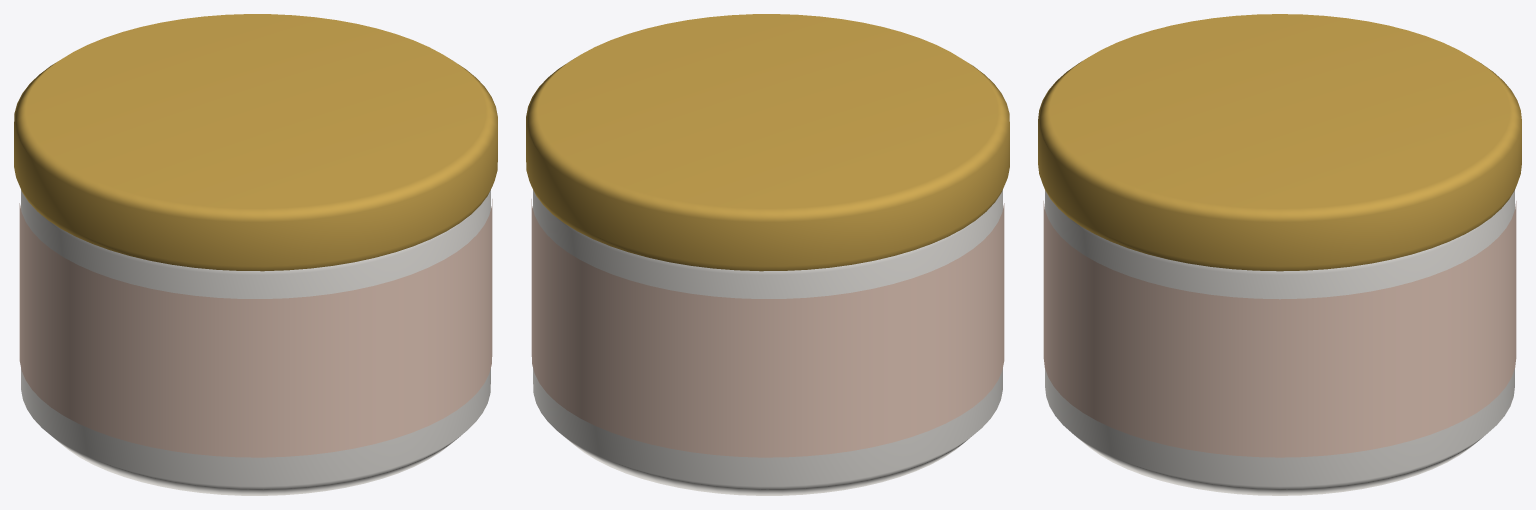
File: cream-jar.glb
3 renders of one model, left to right at view 1: azimuth 30°, elevation 25°; view 2: azimuth 150°, elevation 25°; view 3: azimuth 270°, elevation 25°, orthographic.
Parts seen in each view (by area): view 1: lid, label, body; view 2: lid, label, body; view 3: lid, label, body.
Boxes of the visible parts, left/top/right/bottom form: lid: left=14, top=14, right=497, bottom=271; label: left=19, top=199, right=492, bottom=457; body: left=21, top=190, right=490, bottom=495; lid: left=526, top=14, right=1009, bottom=271; label: left=531, top=199, right=1004, bottom=457; body: left=533, top=190, right=1002, bottom=495; lid: left=1038, top=14, right=1521, bottom=271; label: left=1043, top=201, right=1516, bottom=457; body: left=1045, top=190, right=1514, bottom=495.
Bounding box in the file's own units: 0.927 × 0.62 × 0.927.
